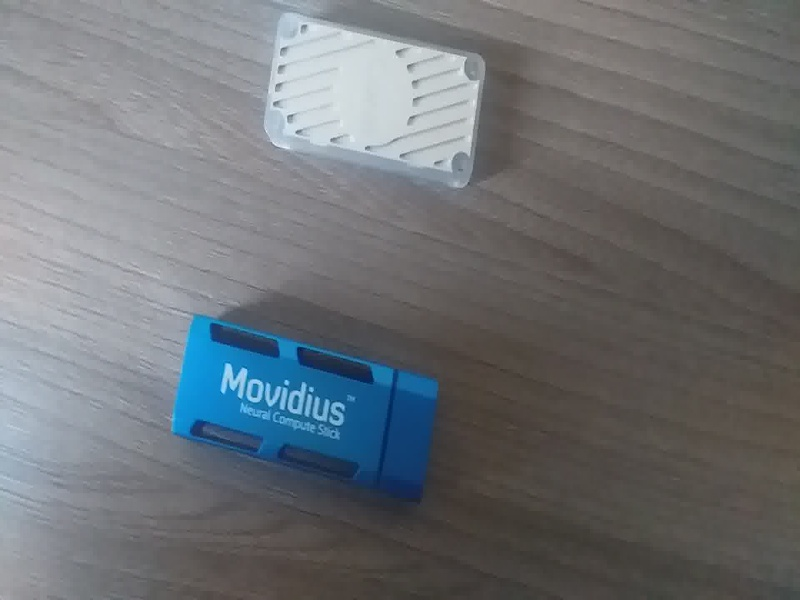coral: (253, 9, 484, 199)
movidius: (166, 305, 440, 508)
